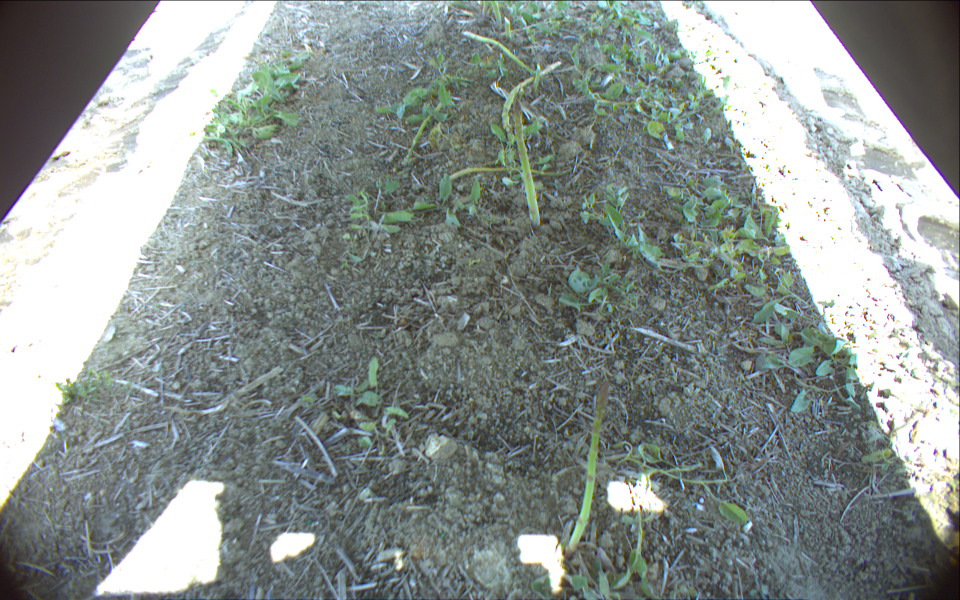aspa: (566, 380, 611, 556), (500, 59, 564, 134), (512, 92, 542, 227), (460, 30, 537, 74), (402, 101, 443, 165), (447, 167, 575, 180), (489, 1, 502, 30), (505, 17, 512, 37)
